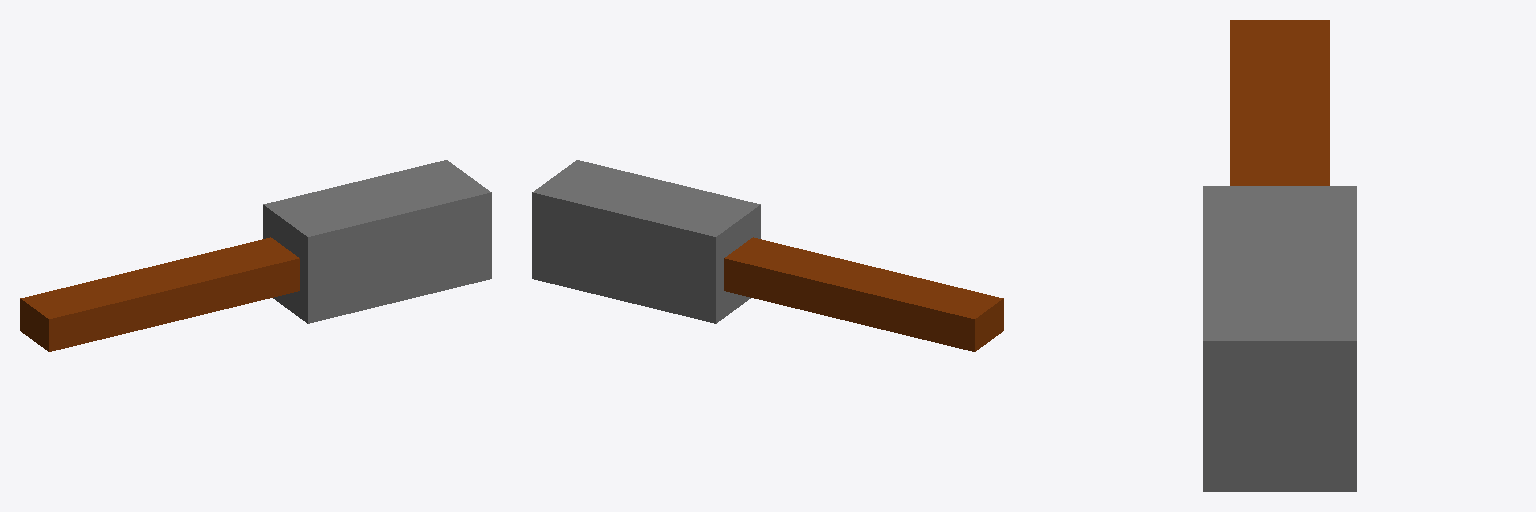
URDF robot description (handle_head):
<?xml version="1.0"?>
<robot name="handle_head">

  <link name="handle_head">
    <!-- Handle -->
    <visual>
              <origin xyz="0 0 0" rpy="0 0 0"/>
        <geometry>
          <box size="0.13414769630648707 0.02654337224478044 0.016777921155370117"/>
        </geometry>
        
      <material name="brown">
        <color rgba="0.55 0.27 0.07 1.0"/>
      </material>
    </visual>
    <collision>
              <origin xyz="0 0 0" rpy="0 0 0"/>
        <geometry>
          <box size="0.13414769630648707 0.02654337224478044 0.016777921155370117"/>
        </geometry>
        
    </collision>

    <!-- Head -->
    <visual>
              <origin xyz="0.1161968977878985 0 0" rpy="0 0 0"/>
        <geometry>
          <box size="0.09824609926930994 0.041399728115258334 0.0443188437584129"/>
        </geometry>
        
      <material name="gray">
        <color rgba="0.5 0.5 0.5 1.0"/>
      </material>
    </visual>
    <collision>
              <origin xyz="0.1161968977878985 0 0" rpy="0 0 0"/>
        <geometry>
          <box size="0.09824609926930994 0.041399728115258334 0.0443188437584129"/>
        </geometry>
        
    </collision>

    <inertial>
      <origin xyz="0.08005946931130606 0 0" rpy="0 0 0"/>
      <mass value="0.09499576578052786"/>
      <inertia ixx="2.2489186345909397e-05" iyy="0.000383194303332968" izz="0.0003828710567512617" ixy="0" ixz="0" iyz="0"/>
    </inertial>
  </link>

</robot>

--- Facts derived from the render (not from the file) ---
Views: 3 orthographic renders of the robot side by side, from view 1: azimuth 30°, elevation 25°; view 2: azimuth 150°, elevation 25°; view 3: azimuth 270°, elevation 25°.
Model handle_head with 1 links and 0 joints (none), rooted at handle_head, posed all joints at 0.
Links seen in each view (by area): view 1: handle_head; view 2: handle_head; view 3: handle_head.
Boxes of the visible links, box(x1,y1,x2,y2) form: handle_head: box(20, 160, 491, 351); handle_head: box(532, 160, 1003, 351); handle_head: box(1203, 20, 1356, 491).
Size in the robot's own frame: 0.2324 by 0.0414 by 0.0443 metres.
Geometry: primitives only (box / cylinder / sphere), no mesh files.
